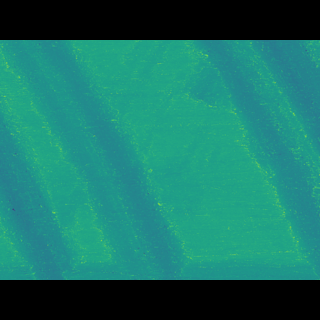Loch: (0, 70, 189, 249), (193, 70, 320, 247)
